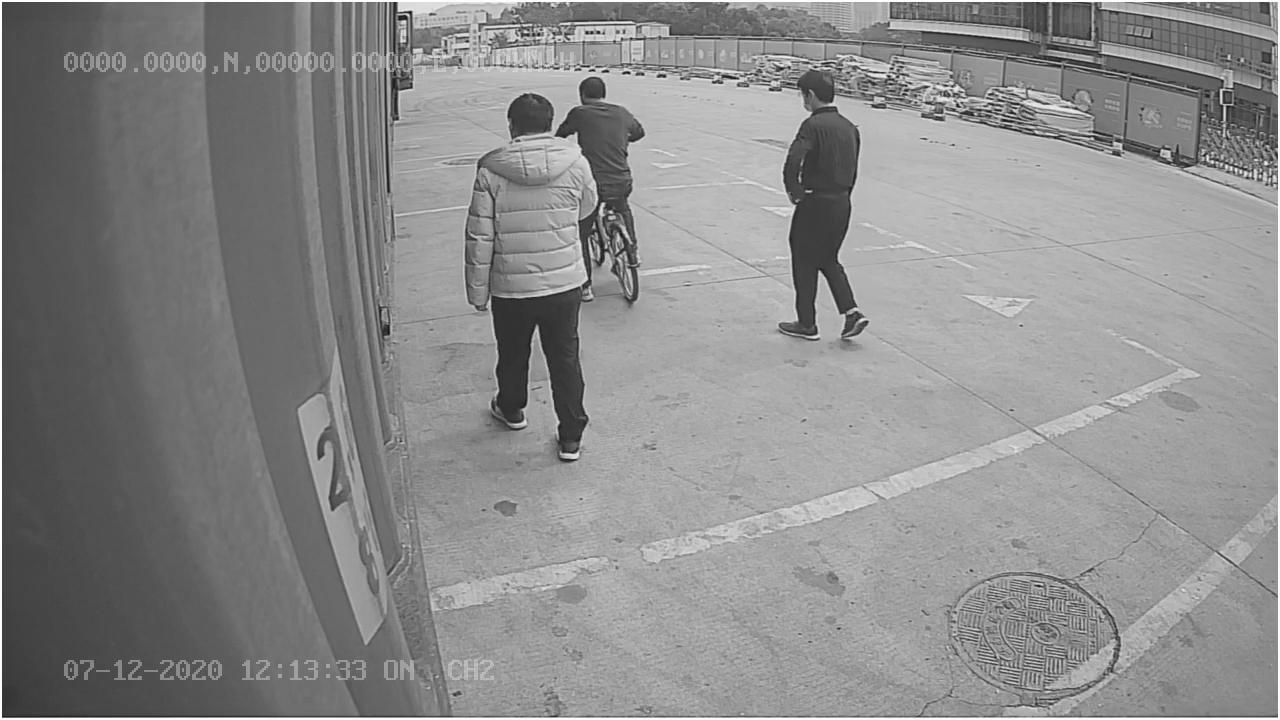person: (771, 69, 882, 344)
